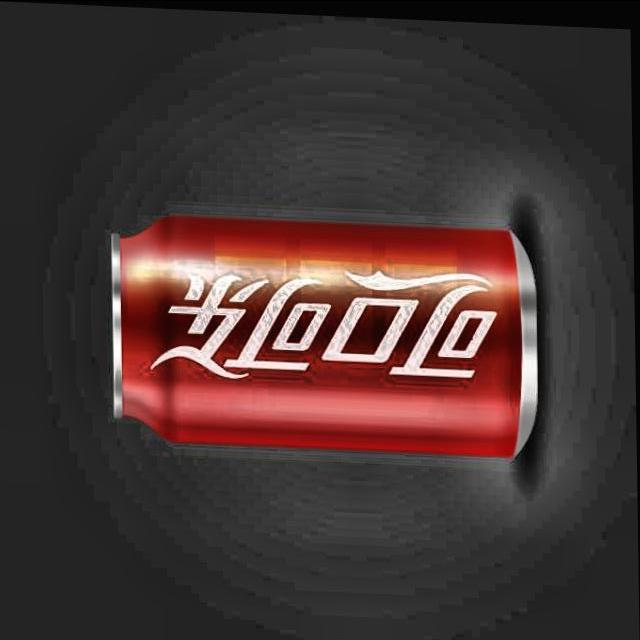litter: (103, 190, 562, 466)
